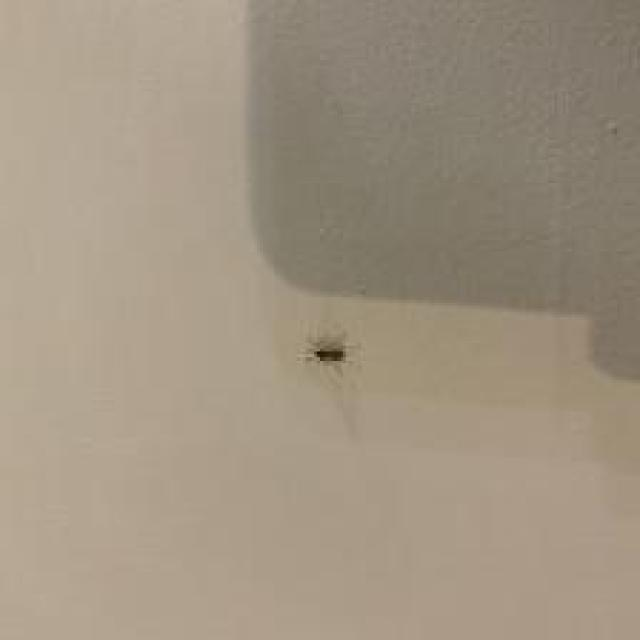Culex: (300, 328, 360, 368)
